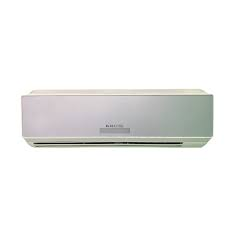ac: (21, 86, 217, 154)
